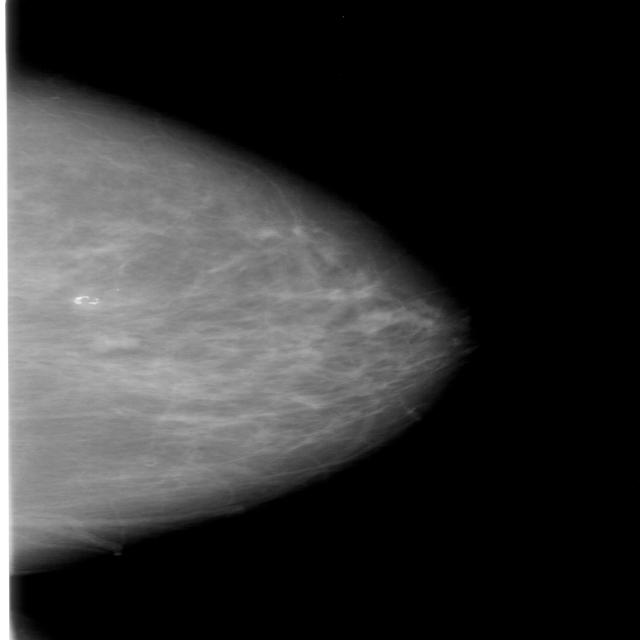normal: (0, 76, 464, 569)
